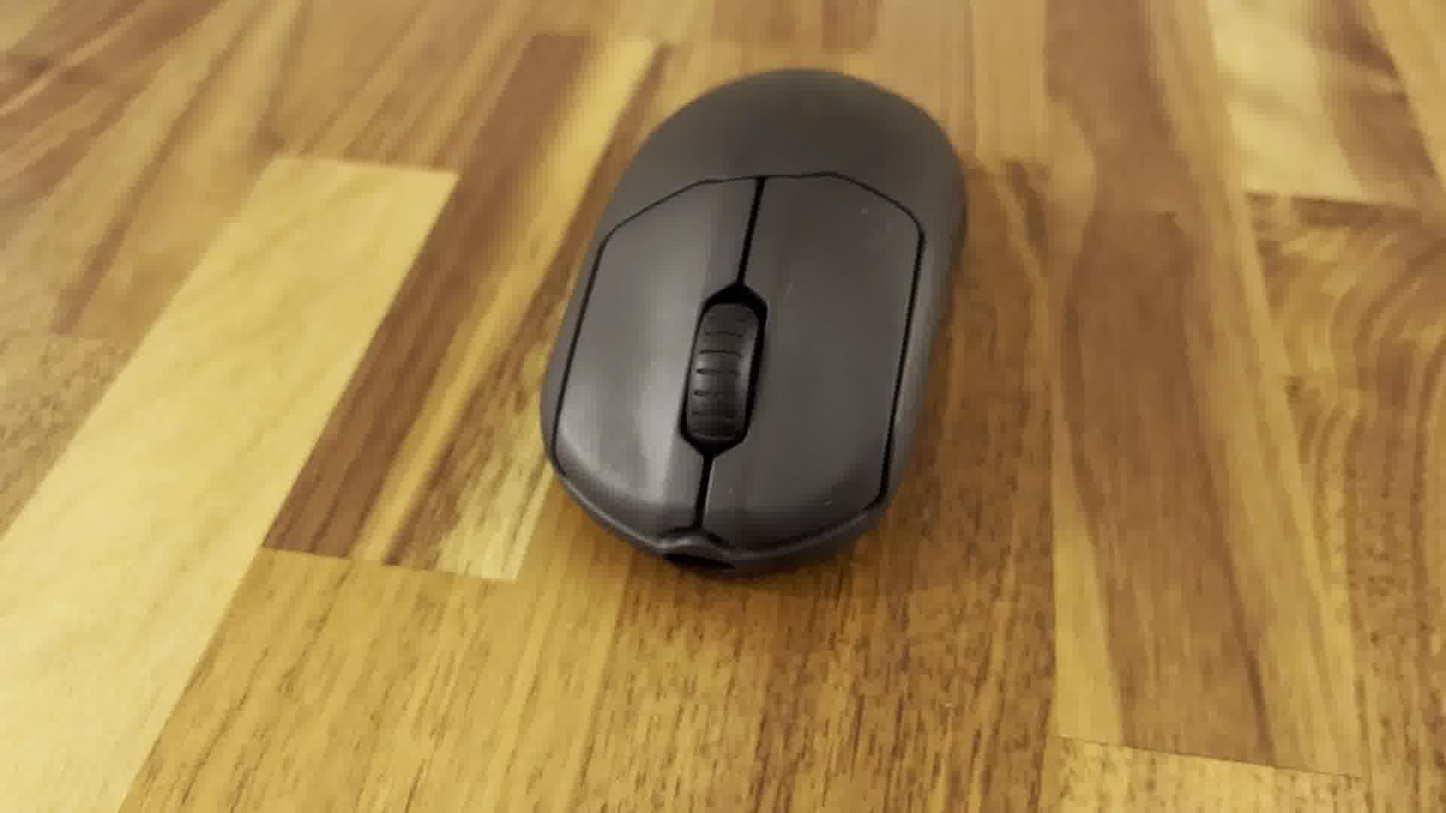steel-series: (535, 59, 973, 578)
